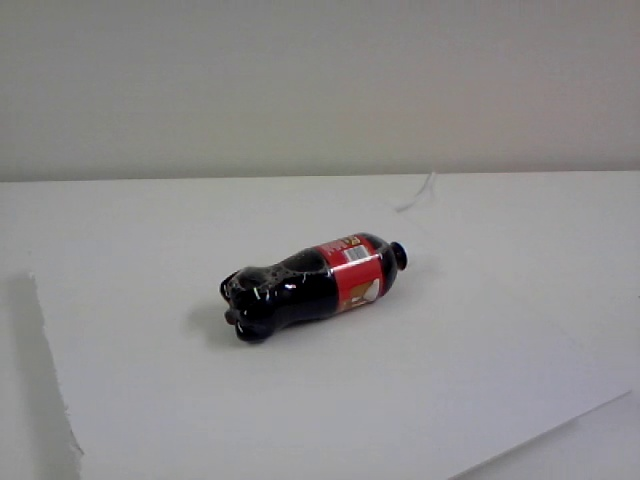botolplastik: (221, 233, 417, 342)
